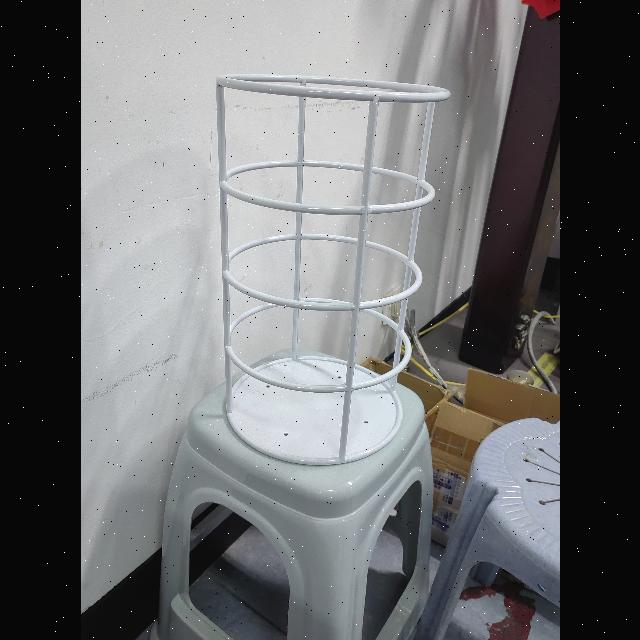S: (212, 69, 454, 471)
